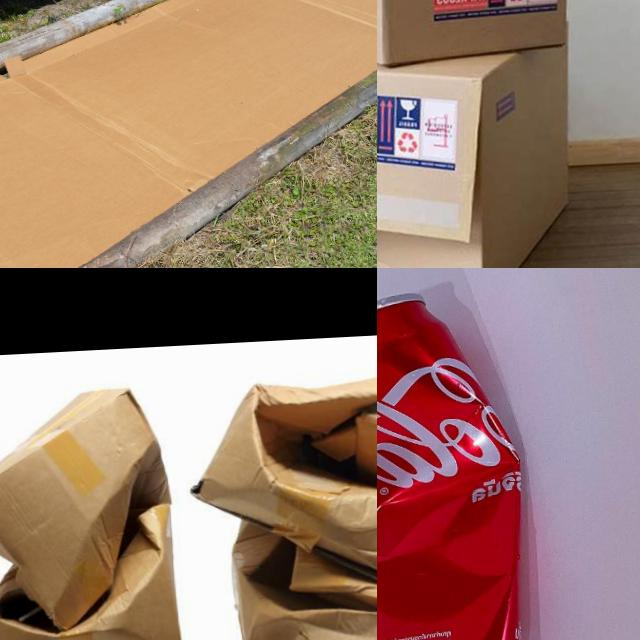lata: (377, 288, 536, 640)
papelão: (0, 0, 377, 268), (184, 363, 377, 640), (377, 21, 584, 268), (0, 383, 183, 640), (377, 0, 588, 71)
